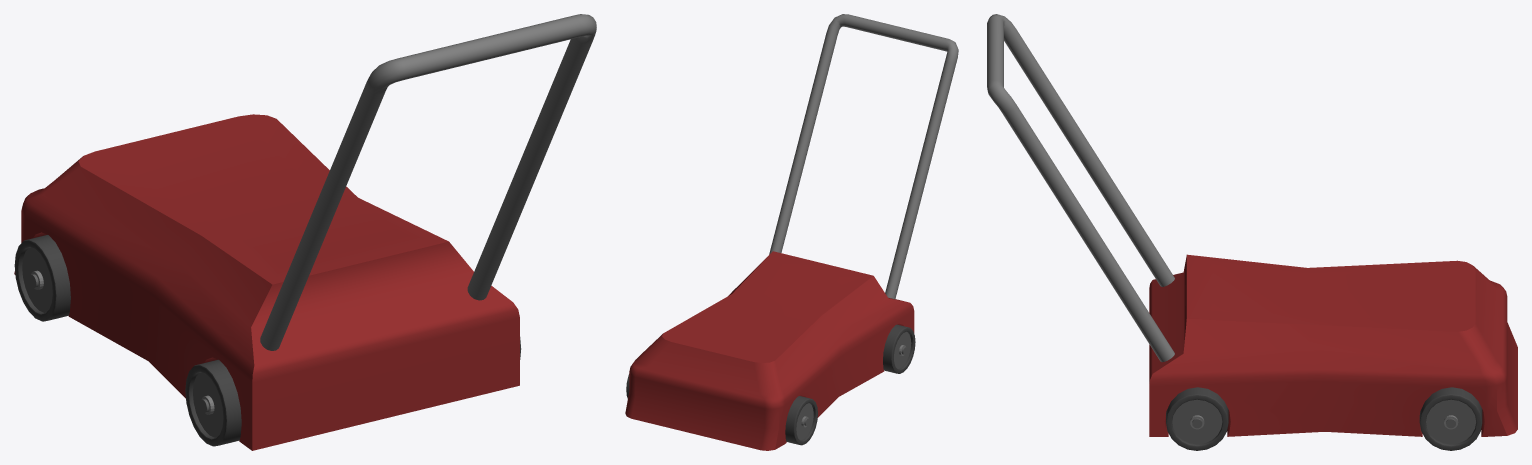
File: tondeuse.fbx
The picture shows the model from 3 angles, left to right: view 1: azimuth 30°, elevation 25°; view 2: azimuth 150°, elevation 25°; view 3: azimuth 270°, elevation 25°; orthographic projection. The views are drawn at different scales.
Visible parts, largest first — view 1: tondeuse; view 2: tondeuse; view 3: tondeuse.
Part boxes in pixels (x1,y1,x2,y2): tondeuse: [14, 14, 596, 450]; tondeuse: [625, 14, 958, 450]; tondeuse: [987, 14, 1517, 450].
Size of the model in its own units: 125 by 188 by 258.
